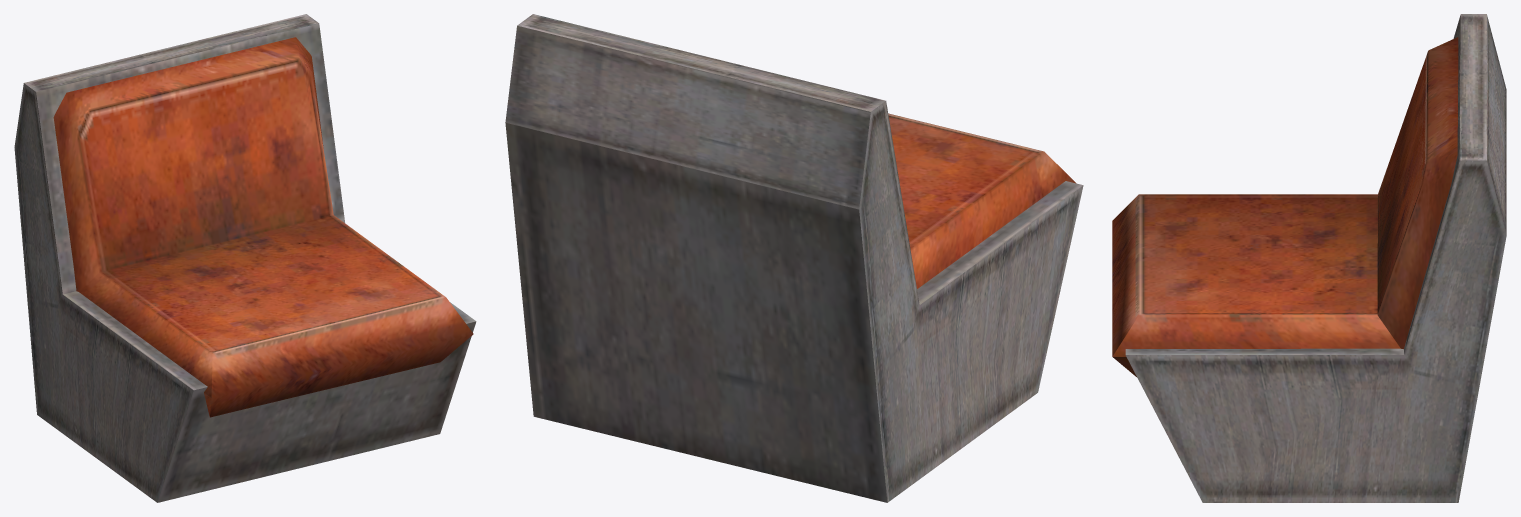
File: frn_all_chep_chair_s01.fbx
3 views of the same model, side by side, from view 1: azimuth 30°, elevation 25°; view 2: azimuth 150°, elevation 25°; view 3: azimuth 270°, elevation 25° (orthographic). The views are drawn at different scales.
Parts seen in each view (by area): view 1: mesh_node; view 2: mesh_node; view 3: mesh_node.
Part boxes in pixels (x1,y1,x2,y2): mesh_node: (14,14,476,502); mesh_node: (505,14,1083,502); mesh_node: (1112,14,1506,502).
Bounding box in the file's own units: 0.719 × 0.7829 × 0.8171.
Materials: 1 (1 with a texture image).
